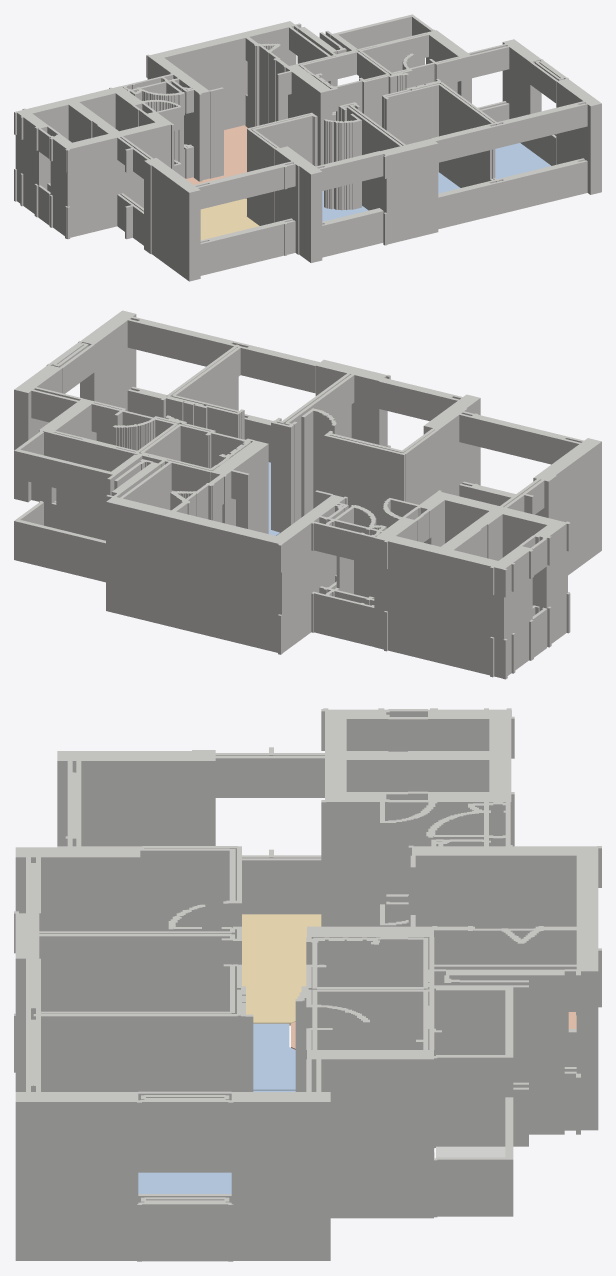
3 renders of one model, top to bottom at view 1: azimuth 30°, elevation 25°; view 2: azimuth 150°, elevation 25°; view 3: azimuth 270°, elevation 25°, orthographic. The views are drawn at different scales.
Visible parts, largest first — view 1: walls, room:living:5, room:bedroom:7, room:kitchen:0, room:bedroom:10; view 2: walls; view 3: walls, room:living:5, room:bedroom:10, room:bedroom:7, room:ledge:2.
Part boxes in pixels (x1,y1,x2,y2): walls: [14, 14, 601, 281]; room:living:5: [200, 198, 259, 240]; room:bedroom:7: [495, 143, 550, 179]; room:kitchen:0: [185, 125, 247, 198]; room:bedroom:10: [322, 191, 368, 221]; walls: [14, 310, 601, 679]; walls: [14, 708, 601, 1261]; room:living:5: [242, 914, 321, 1025]; room:bedroom:10: [253, 1023, 295, 1090]; room:bedroom:7: [138, 1172, 231, 1193]; room:ledge:2: [436, 1146, 505, 1157].
Size of the model in its own units: 14.88 by 2.8 by 9.38.
